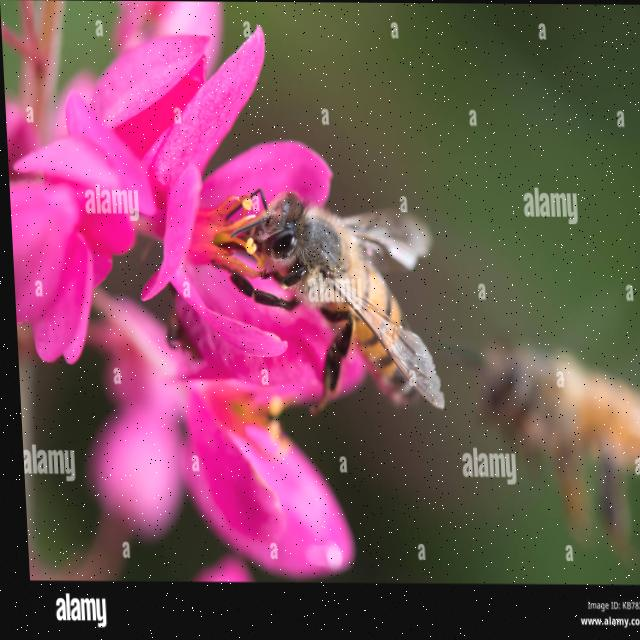Apis-mellifera-scutellata: (207, 180, 457, 430), (470, 303, 640, 552)
